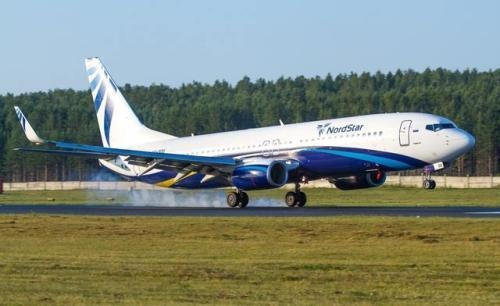airplane: (11, 56, 477, 210)
